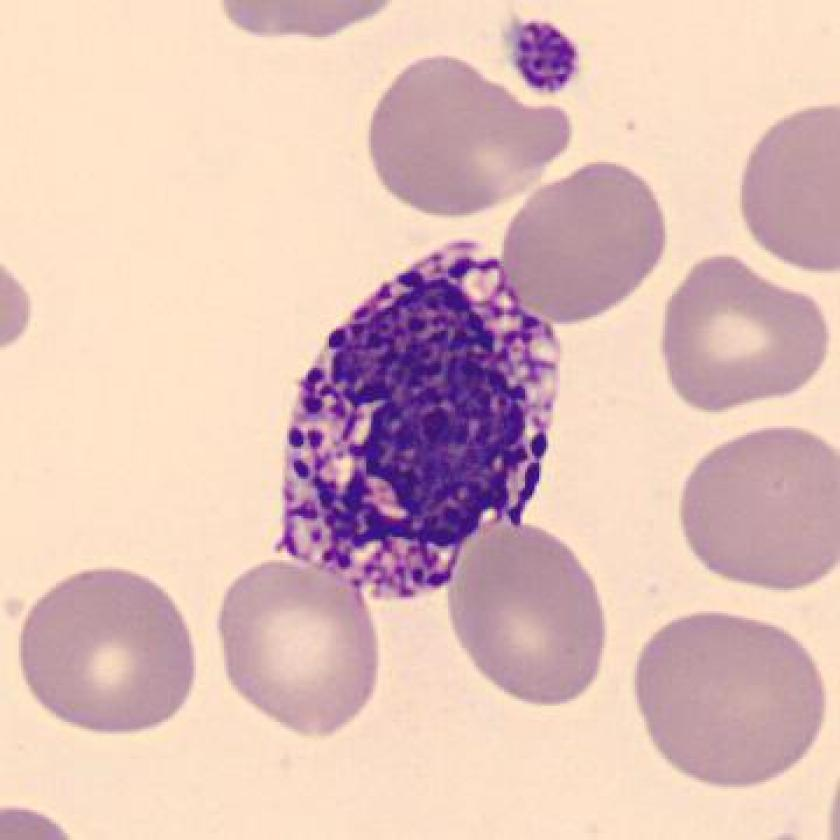basophil: (267, 232, 563, 605)
